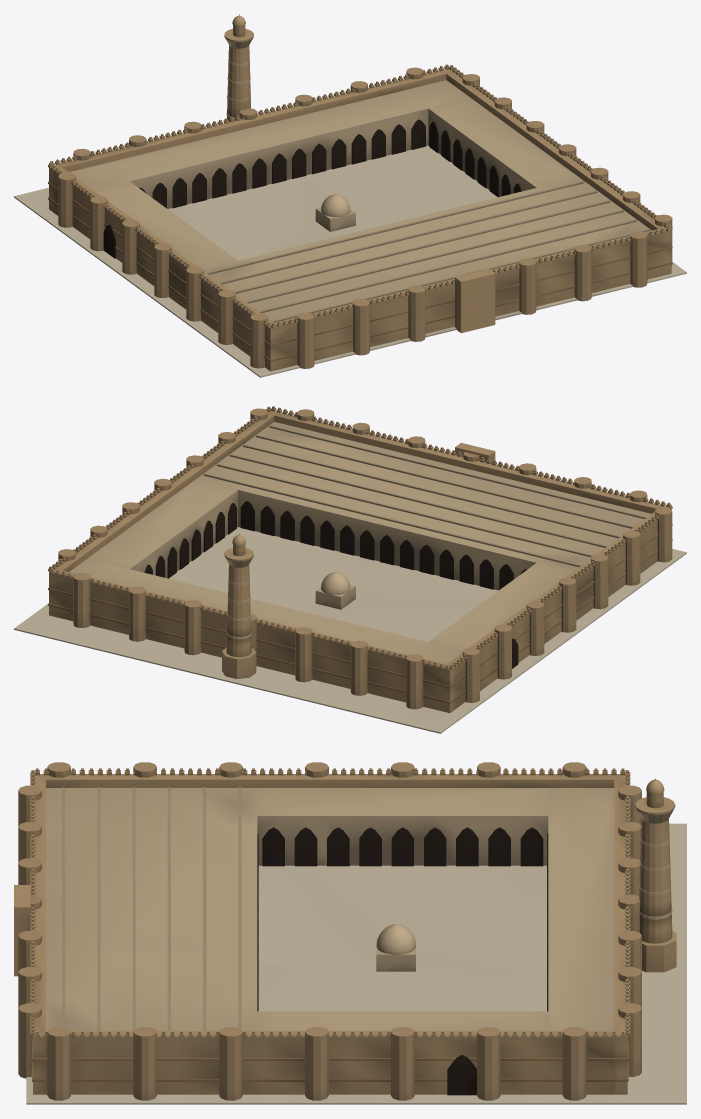
File: mansur-mosque.glb
The picture shows the model from 3 angles, top to bottom: view 1: azimuth 30°, elevation 25°; view 2: azimuth 150°, elevation 25°; view 3: azimuth 270°, elevation 25°; orthographic projection. The views are drawn at different scales.
Parts seen in each view (by area): view 1: p1_halls, p0_walls, p2_minaret; view 2: p1_halls, p0_walls, p2_minaret; view 3: p1_halls, p0_walls, p2_minaret.
Boxes of the visible parts, x1,y1,x2,y2 form: p1_halls: [69, 80, 651, 322]; p0_walls: [14, 64, 686, 377]; p2_minaret: [48, 14, 672, 368]; p1_halls: [69, 422, 651, 664]; p0_walls: [14, 406, 686, 733]; p2_minaret: [48, 408, 672, 709]; p1_halls: [46, 787, 614, 1030]; p0_walls: [26, 768, 686, 1104]; p2_minaret: [14, 762, 676, 1100].
Bounding box in the file's own units: 100 × 31.34 × 102.
